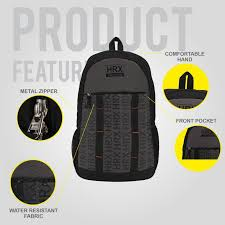backpack: (71, 36, 159, 181)
